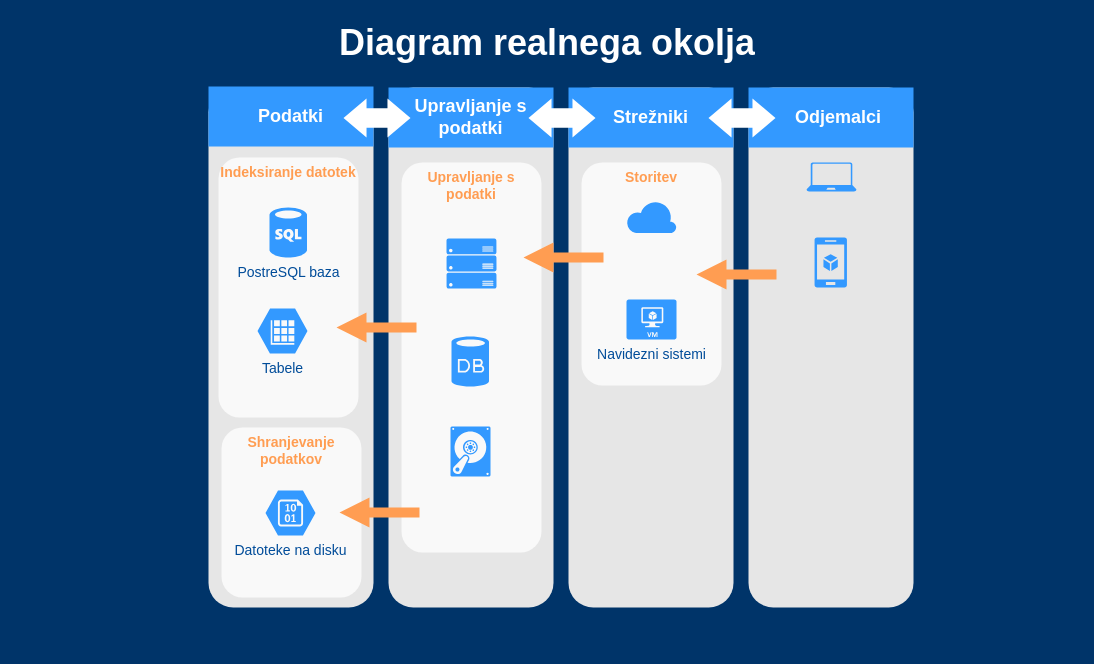
Some shapes in this 1094 by 664 pixel diagram are drawn without their labels. The centre of each missing label's shape, as x and y in pixels:
"Diski" goes at (x=470, y=451).
"Fizični strežniki" goes at (x=471, y=263).
"Mobilne aplikacije" goes at (x=830, y=262).
"Oblak" goes at (x=651, y=216).
"Podatkovne baze" goes at (x=469, y=361).
"Spletni klienti" goes at (x=831, y=176).
